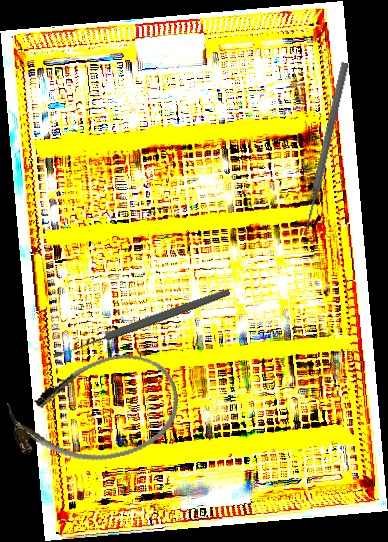Cannula: (1, 343, 189, 479)
Pusher: (299, 61, 351, 238)
Surgical Spoon: (51, 286, 232, 361)
